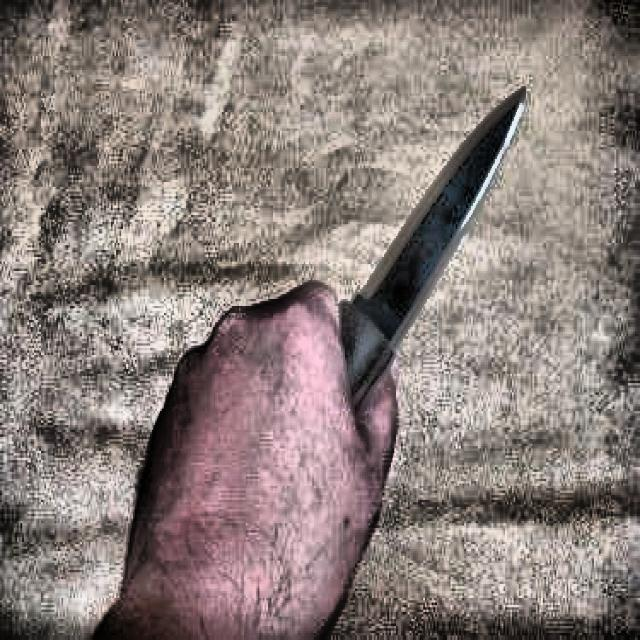knife: (343, 88, 528, 414)
